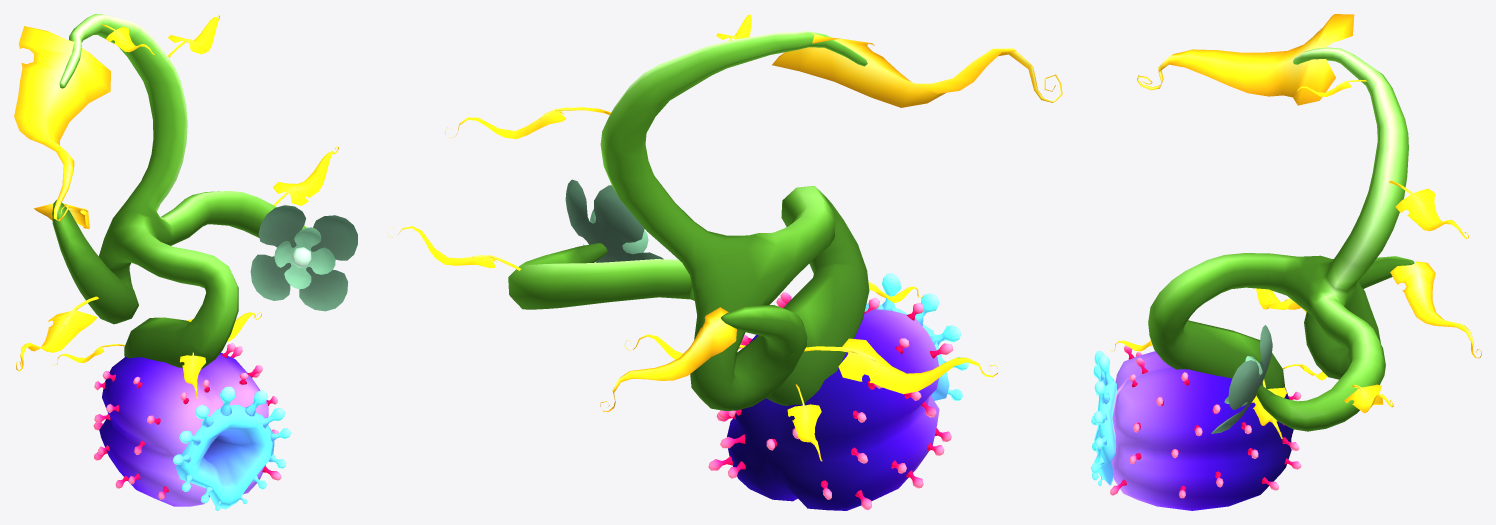
Rendered from budding_anemone.glb.
3 renders of one model, left to right at view 1: azimuth 30°, elevation 25°; view 2: azimuth 150°, elevation 25°; view 3: azimuth 270°, elevation 25°, orthographic. The views are drawn at different scales.
Parts seen in each view (by area): view 1: Budding Anemone; view 2: Budding Anemone; view 3: Budding Anemone.
Part boxes in pixels (box(x1,y1,x2,y2)): Budding Anemone: box(14, 14, 357, 510); Budding Anemone: box(388, 14, 1062, 510); Budding Anemone: box(1091, 14, 1481, 510).
Bounding box in the file's own units: 1.52 × 1.55 × 1.24.
1 material, 1 textured.
